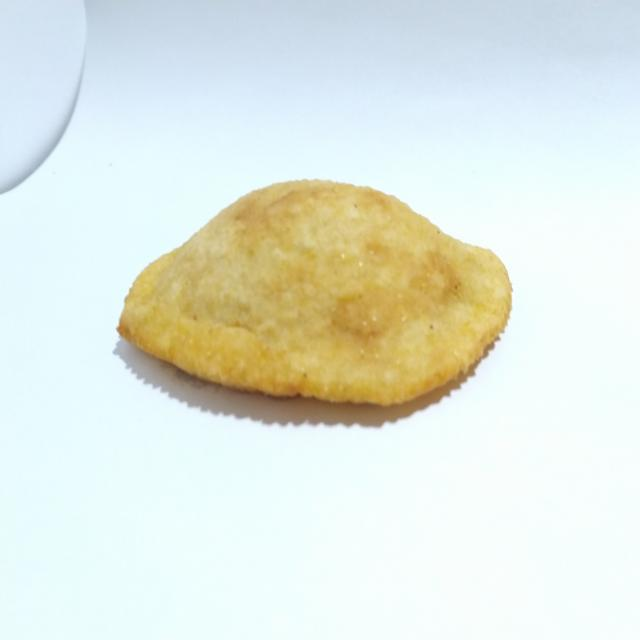Pastel_Mandio: (109, 150, 517, 440)
